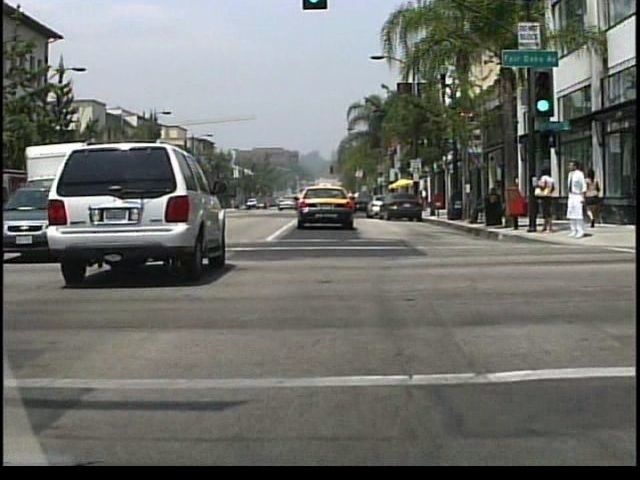person: (562, 159, 586, 239), (534, 164, 556, 236), (583, 168, 605, 232), (464, 189, 489, 227), (487, 179, 499, 223), (420, 185, 430, 213)
